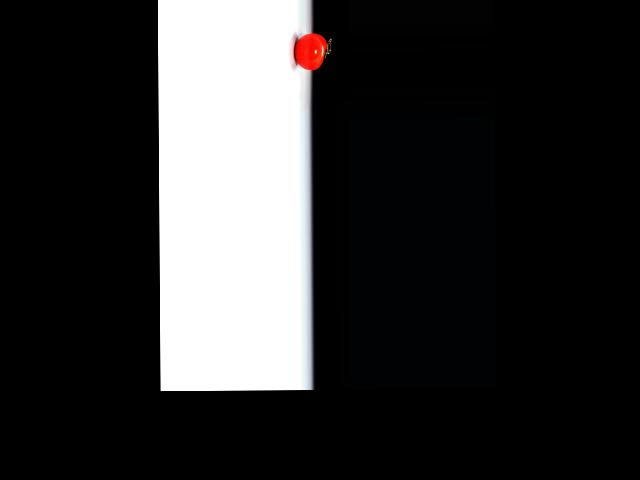tomato: (294, 33, 327, 71)
